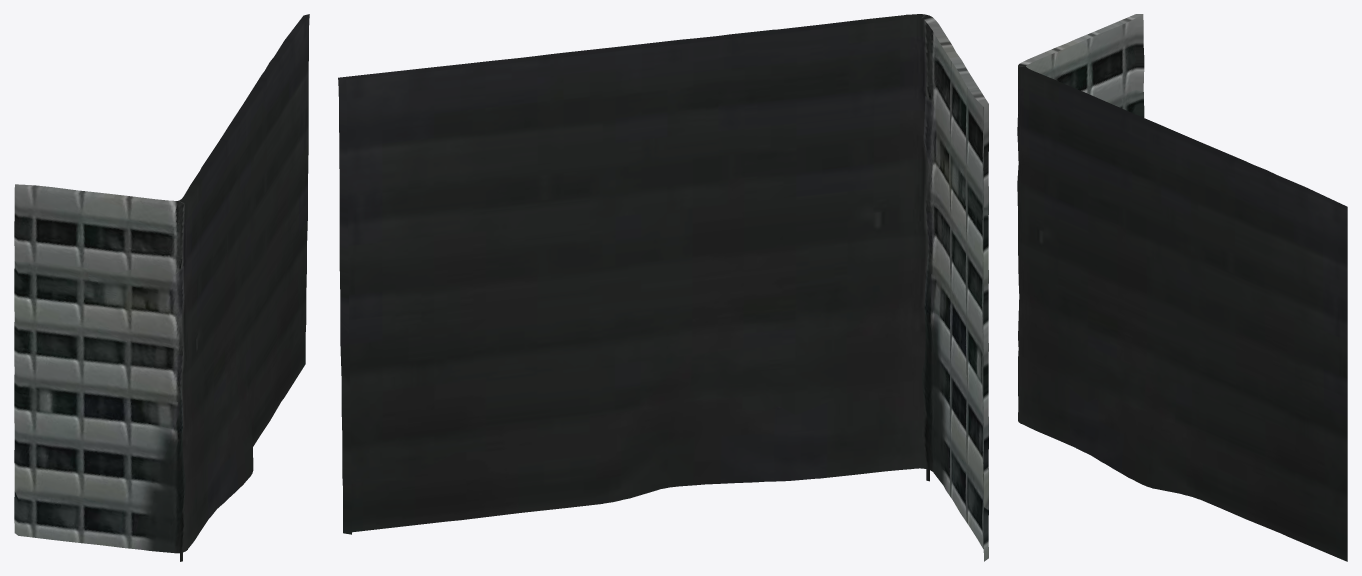
The model's file is z20-167778-405236-h1-yup-uvflip-v3-world.glb.
The picture shows the model from 3 angles, left to right: view 1: azimuth 30°, elevation 25°; view 2: azimuth 150°, elevation 25°; view 3: azimuth 270°, elevation 25°; orthographic projection. The views are drawn at different scales.
Bounding box in the file's own units: 28.28 × 24.44 × 20.16.
1 material, 1 textured.
